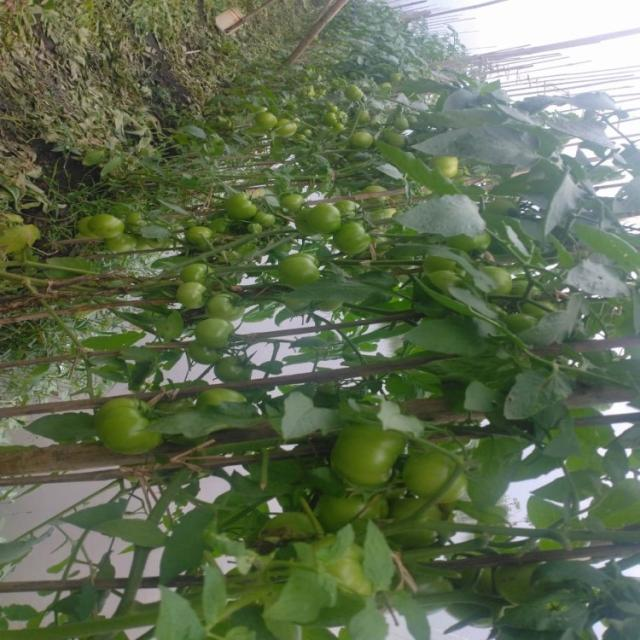tomato: (399, 444, 484, 514), (332, 417, 405, 486), (310, 485, 400, 537), (95, 393, 160, 459), (277, 246, 325, 287), (298, 201, 354, 234), (332, 217, 368, 267), (201, 321, 243, 354), (223, 182, 259, 220), (189, 222, 227, 258), (206, 386, 245, 418), (177, 280, 212, 315), (180, 260, 218, 287), (214, 290, 242, 326), (218, 355, 256, 381), (431, 256, 465, 283), (348, 126, 382, 152), (440, 150, 469, 175), (85, 210, 116, 232), (278, 121, 310, 142), (254, 201, 281, 222), (496, 266, 518, 290), (326, 104, 343, 127), (259, 116, 275, 131), (348, 86, 363, 96)
